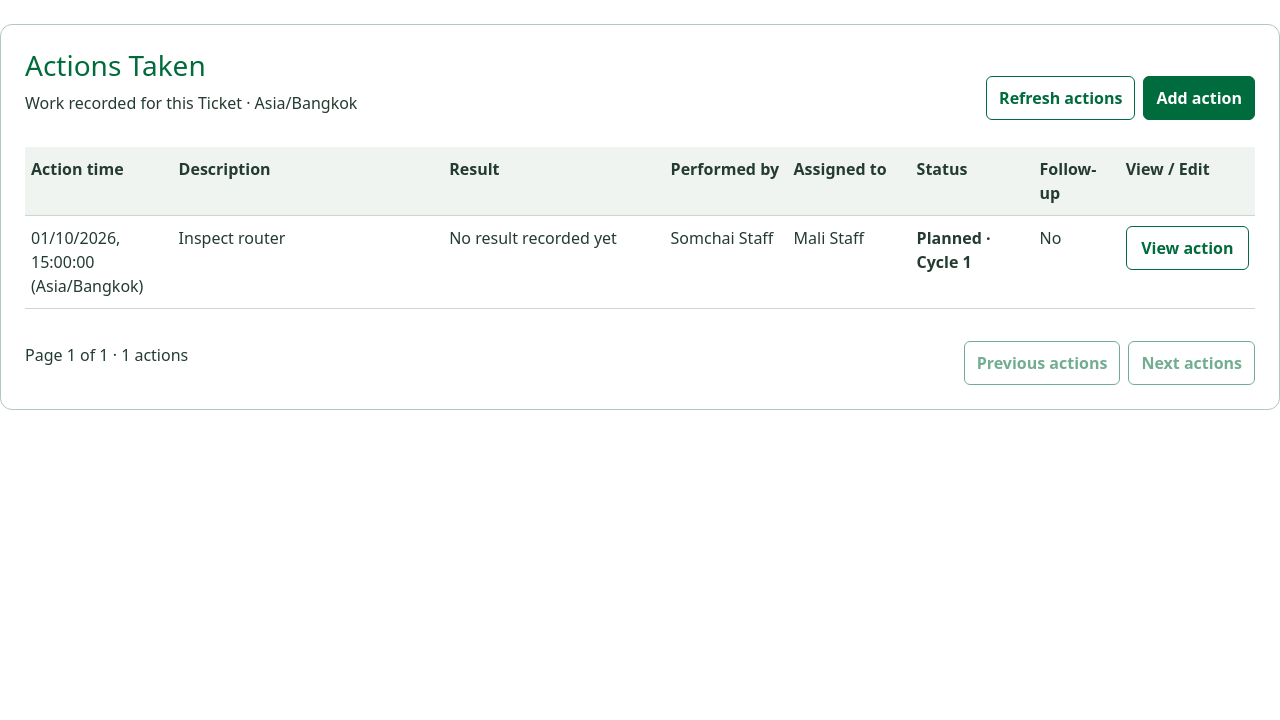
Test: Actions form, validation and authoritative refresh (UI-01) › places required errors beside fields and focuses the first invalid control
The image size is (1280, 720).
Click the button "Add action". click: (1199, 98)
box: [1143,76,1255,120]
(page scrolled)
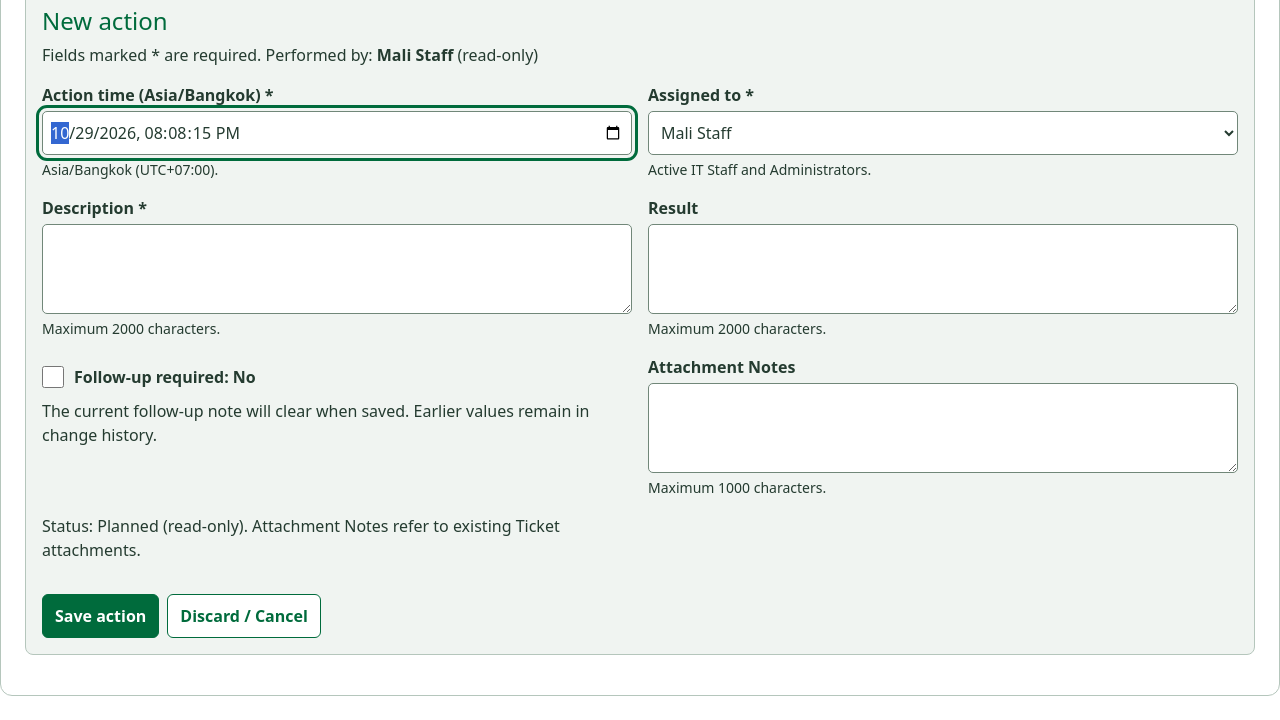
Click the button "Save action". click: (101, 616)
box: [42,594,159,638]
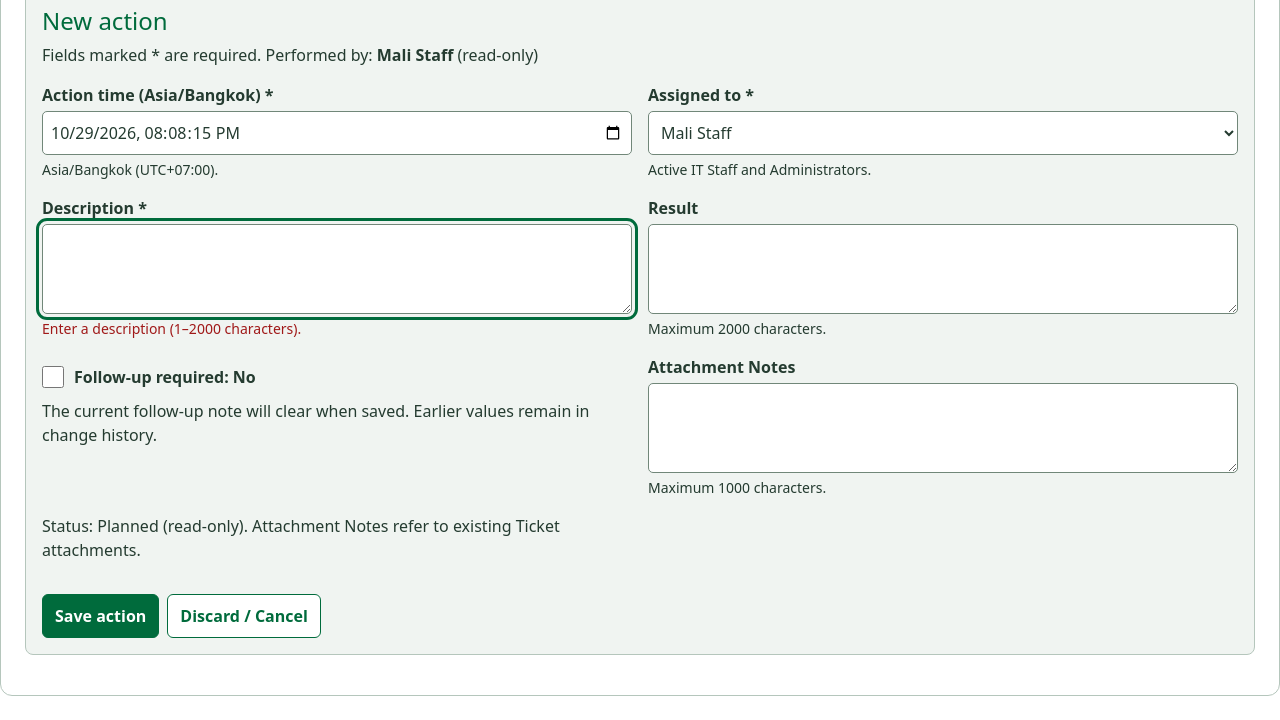
expect the text "Enter a description (1–2000 characters)." is shown: met, box [42,319,301,338]
